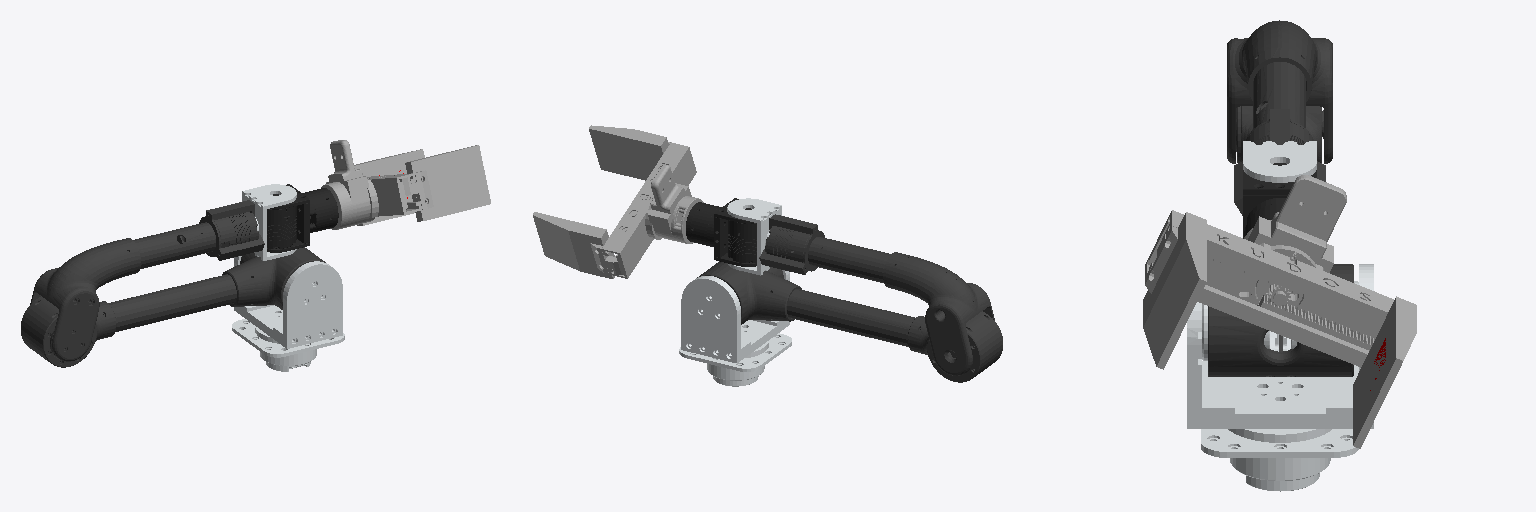
URDF robot description (DROK_P_gripper_D405):
<?xml version='1.0' encoding='utf-8'?>
<robot name="DROK_P_gripper_D405">
  <link name="ARM_BASE_LINK">
    <inertial>
      <origin xyz="2.9813E-07 2.5769E-05 -0.0063007" rpy="0 0 0" />
      <mass value="0.68746" />
      <inertia ixx="0.00047228" ixy="3.6123E-09" ixz="-9.4716E-11" iyy="0.00047318" iyz="1.308E-07" izz="0.00078902" />
    </inertial>
    <visual>
      <origin xyz="0 0 0" rpy="0 0 0" />
      <geometry>
        <mesh filename="package://drok_arm_description/meshes/ARM_BASE_LINK.STL" />
      </geometry>
      <material name="">
        <color rgba="0.89804 0.91765 0.92941 1" />
      </material>
    </visual>
  </link>
  <joint name="JOINT1" type="revolute">
    <origin xyz="0 0 0.016" rpy="0 0 0" />
    <parent link="ARM_BASE_LINK" />
    <child link="LINK1" />
    <axis xyz="0 0 1" />
    <limit lower="-0.78540" upper="2.26893" effort="35" velocity="1.2" />
    <dynamics damping="2" friction="0.3" />
  </joint>
  <link name="LINK1">
    <inertial>
      <origin xyz="-6.5604E-05 0.00013328 0.05267" rpy="0 0 0" />
      <mass value="1.8725" />
      <inertia ixx="0.0014717" ixy="-9.2093E-15" ixz="8.8089E-07" iyy="0.0016195" iyz="1.8833E-10" izz="0.0015187" />
    </inertial>
    <visual>
      <origin xyz="0 0 0" rpy="0 0 0" />
      <geometry>
        <mesh filename="package://drok_arm_description/meshes/LINK1.STL" />
      </geometry>
      <material name="">
        <color rgba="0.89804 0.91765 0.92941 1" />
      </material>
    </visual>
  </link>
  <link name="LINK2">
    <inertial>
      <origin xyz="-0.23683 -0.0027683 6.2911E-08" rpy="0 0 0" />
      <mass value="1.0336" />
      <inertia ixx="0.00086339" ixy="2.8839E-06" ixz="-2.0291E-09" iyy="0.0014398" iyz="1.0046E-09" izz="0.0014082" />
    </inertial>
    <visual>
      <origin xyz="0 0 0" rpy="0 0 0" />
      <geometry>
        <mesh filename="package://drok_arm_description/meshes/LINK2.STL" />
      </geometry>
      <material name="">
        <color rgba="0.29804 0.29804 0.29804 1" />
      </material>
    </visual>
    <collision>
      <origin xyz="0 0 0" rpy="0 0 0" />
      <geometry>
        <mesh filename="package://drok_arm_description/meshes/LINK2.STL" />
      </geometry>
    </collision>
  </link>
  <joint name="JOINT2" type="revolute">
    <origin xyz="0 0 0.07" rpy="0 0 0" />
    <parent link="LINK1" />
    <child link="LINK2" />
    <axis xyz="0 1 0" />
    <limit lower="-0.50000" upper="3.14159" effort="35" velocity="1.2" />
    <dynamics damping="2" friction="0.3" />
  </joint>
  <link name="LINK3">
    <inertial>
      <origin xyz="0.10819 -0.00014566 0.068578" rpy="0 0 0" />
      <mass value="0.61657" />
      <inertia ixx="0.00040608" ixy="-1.0224E-06" ixz="-0.0001694" iyy="0.00081082" iyz="-6.7324E-07" izz="0.00057774" />
    </inertial>
    <visual>
      <origin xyz="0 0 0" rpy="0 0 0" />
      <geometry>
        <mesh filename="package://drok_arm_description/meshes/LINK3.STL" />
      </geometry>
      <material name="">
        <color rgba="0.29804 0.29804 0.29804 1" />
      </material>
    </visual>
    <collision>
      <origin xyz="0 0 0" rpy="0 0 0" />
      <geometry>
        <mesh filename="package://drok_arm_description/meshes/LINK3.STL" />
      </geometry>
    </collision>
  </link>
  <joint name="JOINT3" type="revolute">
    <origin xyz="-0.35 -0.00025005 0" rpy="0 0 0" />
    <parent link="LINK2" />
    <child link="LINK3" />
    <axis xyz="0 -1 0" />
    <limit lower="0.00000" upper="3.14159" effort="35" velocity="1.2" />
    <dynamics damping="2" friction="0.3" />
  </joint>
  <link name="LINK4">
    <inertial>
      <origin xyz="0.020782 1.0814E-13 -0.0020268" rpy="0 0 0" />
      <mass value="0.15667" />
      <inertia ixx="5.9832E-05" ixy="-1.0164E-20" ixz="-1.6147E-07" iyy="4.862E-05" iyz="-2.099E-20" izz="6.3367E-05" />
    </inertial>
    <visual>
      <origin xyz="0 0 0" rpy="0 0 0" />
      <geometry>
        <mesh filename="package://drok_arm_description/meshes/LINK4.STL" />
      </geometry>
      <material name="">
        <color rgba="0.89804 0.91765 0.92941 1" />
      </material>
    </visual>
    <collision>
      <origin xyz="0 0 0" rpy="0 0 0" />
      <geometry>
        <mesh filename="package://drok_arm_description/meshes/LINK4.STL" />
      </geometry>
    </collision>
  </link>
  <joint name="JOINT4" type="revolute">
    <origin xyz="0.29265 0 0.083467" rpy="0 0 0" />
    <parent link="LINK3" />
    <child link="LINK4" />
    <axis xyz="1 0 0" />
    <limit lower="-5.89101" upper="2.64243" effort="35" velocity="1.2" />
    <dynamics damping="2" friction="0.3" />
  </joint>
  <link name="LINK5">
    <inertial>
      <origin xyz="0.016203 -5.9624E-05 0.0040656" rpy="0 0 0" />
      <mass value="0.31154" />
      <inertia ixx="0.00010707" ixy="1.3296E-07" ixz="-5.2633E-08" iyy="0.00010649" iyz="7.1844E-07" izz="0.00015875" />
    </inertial>
    <visual>
      <origin xyz="0 0 0" rpy="0 0 0" />
      <geometry>
        <mesh filename="package://drok_arm_description/meshes/LINK5.STL" />
      </geometry>
      <material name="">
        <color rgba="0.20392 0.20392 0.20392 1" />
      </material>
    </visual>
    <collision>
      <origin xyz="0 0 0" rpy="0 0 0" />
      <geometry>
        <mesh filename="package://drok_arm_description/meshes/LINK5.STL" />
      </geometry>
    </collision>
  </link>
  <joint name="JOINT5" type="revolute">
    <origin xyz="0.038 0 0" rpy="0 0 0" />
    <parent link="LINK4" />
    <child link="LINK5" />
    <axis xyz="0 0 -1" />
    <limit lower="-1.52175" upper="1.31947" effort="35" velocity="1.2" />
    <dynamics damping="2" friction="0.3" />
  </joint>
  <link name="LINK6">
    <inertial>
      <origin xyz="0.028305 -0.00023763 0.011044" rpy="0 0 0" />
      <mass value="0.093458" />
      <inertia ixx="5.2224E-05" ixy="-1.3959E-07" ixz="-2.0275E-06" iyy="3.5228E-05" iyz="3.7919E-07" izz="3.453E-05" />
    </inertial>
    <visual>
      <origin xyz="0 0 0" rpy="0 0 0" />
      <geometry>
        <mesh filename="package://drok_arm_description/meshes/LINK6.STL" />
      </geometry>
      <material name="">
        <color rgba="0.69804 0.69804 0.69804 1" />
      </material>
    </visual>
    <collision>
      <origin xyz="0 0 0" rpy="0 0 0" />
      <geometry>
        <mesh filename="package://drok_arm_description/meshes/LINK6.STL" />
      </geometry>
    </collision>
  </link>
  <joint name="JOINT6" type="revolute">
    <origin xyz="0.081 0 0" rpy="-0.41888 0 0" />
    <parent link="LINK5" />
    <child link="LINK6" />
    <axis xyz="-1 0 0" />
    <limit lower="-2.87729" upper="1.31150" effort="35" velocity="1.0" />
    <dynamics damping="2" friction="0.3" />
  </joint>
  <link name="GRIPPER_BASE">
    <inertial>
      <origin xyz="-0.015957 3.8498E-06 -6.7084E-05" rpy="0 0 0" />
      <mass value="0.090747" />
      <inertia ixx="0.00026818" ixy="-2.3586E-09" ixz="6.6695E-08" iyy="3.2287E-05" iyz="-7.8052E-09" izz="0.0002532" />
    </inertial>
    <visual>
      <origin xyz="0 0 0" rpy="0 0 0" />
      <geometry>
        <mesh filename="package://drok_arm_description/meshes/GRIPPER_BASE.STL" />
      </geometry>
      <material name="">
        <color rgba="0.69804 0.69804 0.69804 1" />
      </material>
    </visual>
  </link>
  <joint name="LINK6_TO_GRIPPER_BASE_FIXED" type="fixed">
    <origin xyz="0.08 0 0" rpy="0 0 0" />
    <parent link="LINK6" />
    <child link="GRIPPER_BASE" />
    <axis xyz="0 0 0" />
  </joint>
  <link name="GRIPPER_LEFT">
    <inertial>
      <origin xyz="-0.017307 0.0022021 -0.0021854" rpy="0 0 0" />
      <mass value="0.088523" />
      <inertia ixx="6.4058E-05" ixy="-1.7328E-06" ixz="-1.1979E-06" iyy="0.00010173" iyz="-2.9905E-06" izz="8.4227E-05" />
    </inertial>
    <visual>
      <origin xyz="0 0 0" rpy="0 0 0" />
      <geometry>
        <mesh filename="package://drok_arm_description/meshes/GRIPPER_LEFT.STL" />
      </geometry>
      <material name="">
        <color rgba="0.69804 0.69804 0.69804 1" />
      </material>
    </visual>

  
    <collision>
      <origin xyz="0 0.0015 0" rpy="0 0 0" />
      <geometry>
        <box size="0.040 0.003 0.040" />
      </geometry>
    </collision>

    <visual name="collision_debug">
      <origin xyz="0 0.0015 0" rpy="0 0 0" />
      <geometry>
        <box size="0.040 0.003 0.040" />
      </geometry>
      <material name="collision_debug_red">
        <color rgba="1.0 0.0 0.0 0.55" />
      </material>
    </visual>
</link>
  <joint name="GRIPPER_LEFT_JOINT" type="prismatic">
    <origin xyz="0.0594 0.078 0" rpy="0 0 0" />
    <parent link="GRIPPER_BASE" />
    <child link="GRIPPER_LEFT" />
    <axis xyz="0 -1 0" />
    <limit lower="0" upper="0" effort="0" velocity="0" />
  </joint>
  <link name="GRIPPER_RIGH">
    <inertial>
      <origin xyz="-0.017307 -0.0022021 0.0021854" rpy="0 0 0" />
      <mass value="0.088523" />
      <inertia ixx="6.4058E-05" ixy="1.7328E-06" ixz="1.1979E-06" iyy="0.00010173" iyz="-2.9905E-06" izz="8.4227E-05" />
    </inertial>
    <visual>
      <origin xyz="0 0 0" rpy="0 0 0" />
      <geometry>
        <mesh filename="package://drok_arm_description/meshes/GRIPPER_RIGH.STL" />
      </geometry>
      <material name="">
        <color rgba="0.69804 0.69804 0.69804 1" />
      </material>
    </visual>

  
    <collision>
      <origin xyz="0 -0.0015 0" rpy="0 0 0" />
      <geometry>
        <box size="0.040 0.003 0.040" />
      </geometry>
    </collision>

    <visual name="collision_debug">
      <origin xyz="0 -0.0015 0" rpy="0 0 0" />
      <geometry>
        <box size="0.040 0.003 0.040" />
      </geometry>
      <material name="collision_debug_red">
        <color rgba="1.0 0.0 0.0 0.55" />
      </material>
    </visual>
</link>
  <joint name="GRIPPER_RIGHT_JOINT" type="prismatic">
    <origin xyz="0.0594 -0.078 0" rpy="0 0 0" />
    <parent link="GRIPPER_BASE" />
    <child link="GRIPPER_RIGH" />
    <axis xyz="0 -1 0" />
    <limit lower="0" upper="0" effort="0" velocity="0" />
  </joint>
  <link name="gripper_center" />
  <joint name="GRIPPER_CENTER_FIXED_JOINT" type="fixed">
    <parent link="GRIPPER_BASE" />
    <child link="gripper_center" />
    <origin xyz="0.0594 0 0" rpy="0 0 0" />
  </joint>
  <link name="gripper_tcp" />
  <joint name="GRIPPER_TCP_FIXED_JOINT" type="fixed">
    <parent link="gripper_center" />
    <child link="gripper_tcp" />
    <origin xyz="0 0 0" rpy="0 0 0" />
  </joint>
</robot>

--- Facts derived from the render (not from the file) ---
3 views of the same robot in one strip: view 1: azimuth 30°, elevation 25°; view 2: azimuth 150°, elevation 25°; view 3: azimuth 270°, elevation 25° (orthographic).
Robot: DROK_P_gripper_D405 — 12 links, 11 joints (6 revolute, 2 prismatic, 3 fixed); root link ARM_BASE_LINK; default pose: every joint at zero.
Links seen in each view (by area): view 1: LINK3, LINK2, LINK1, GRIPPER_RIGH, LINK5, LINK6, ARM_BASE_LINK, GRIPPER_BASE, LINK4, GRIPPER_LEFT; view 2: LINK3, LINK2, LINK1, GRIPPER_BASE, GRIPPER_LEFT, LINK5, GRIPPER_RIGH, LINK6, ARM_BASE_LINK, LINK4; view 3: GRIPPER_BASE, LINK3, LINK1, LINK2, ARM_BASE_LINK, GRIPPER_RIGH, GRIPPER_LEFT, LINK6, LINK4, LINK5.
Link boxes in pixels (x1=…): LINK3: x1=30, y1=200, x2=264, y2=361; LINK2: x1=21, y1=247, x2=325, y2=367; LINK1: x1=234, y1=256, x2=342, y2=348; GRIPPER_RIGH: x1=399, y1=145, x2=490, y2=221; LINK5: x1=267, y1=184, x2=338, y2=252; LINK6: x1=321, y1=140, x2=370, y2=229; ARM_BASE_LINK: x1=232, y1=319, x2=344, y2=371; GRIPPER_BASE: x1=367, y1=173, x2=421, y2=221; LINK4: x1=242, y1=184, x2=296, y2=260; GRIPPER_LEFT: x1=354, y1=149, x2=424, y2=225; LINK3: x1=759, y1=214, x2=994, y2=375; LINK2: x1=697, y1=261, x2=1002, y2=382; LINK1: x1=681, y1=270, x2=789, y2=362; GRIPPER_BASE: x1=602, y1=142, x2=696, y2=278; GRIPPER_LEFT: x1=533, y1=212, x2=622, y2=278; LINK5: x1=686, y1=198, x2=756, y2=266; GRIPPER_RIGH: x1=589, y1=125, x2=670, y2=200; LINK6: x1=648, y1=164, x2=703, y2=243; ARM_BASE_LINK: x1=679, y1=333, x2=791, y2=386; LINK4: x1=727, y1=198, x2=781, y2=275; GRIPPER_BASE: x1=1145, y1=210, x2=1393, y2=367; LINK3: x1=1227, y1=20, x2=1332, y2=215; LINK1: x1=1187, y1=264, x2=1373, y2=428; LINK2: x1=1208, y1=106, x2=1353, y2=376; ARM_BASE_LINK: x1=1201, y1=429, x2=1358, y2=491; GRIPPER_RIGH: x1=1143, y1=212, x2=1296, y2=369; GRIPPER_LEFT: x1=1257, y1=295, x2=1416, y2=448; LINK6: x1=1244, y1=175, x2=1346, y2=287; LINK4: x1=1243, y1=141, x2=1316, y2=182; LINK5: x1=1243, y1=163, x2=1316, y2=238.
Bounding box of the posed robot: 0.6471 × 0.2061 × 0.2933 m (x, y, z).
Meshes: 10 distinct files referenced, 10 mesh visuals loaded (10 binary STL).
